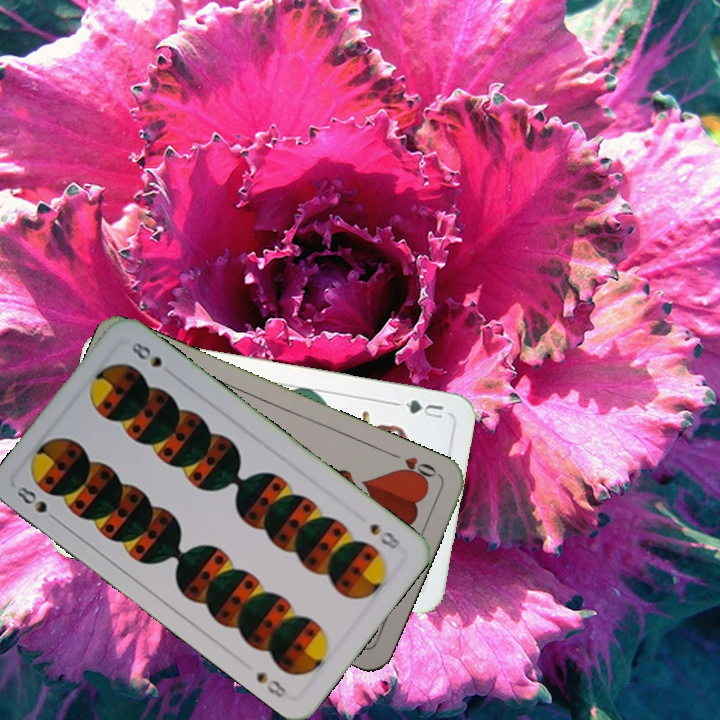GU: (401, 395, 446, 421)
HO: (385, 448, 441, 485)
S8: (12, 482, 63, 526), (365, 519, 403, 552)
